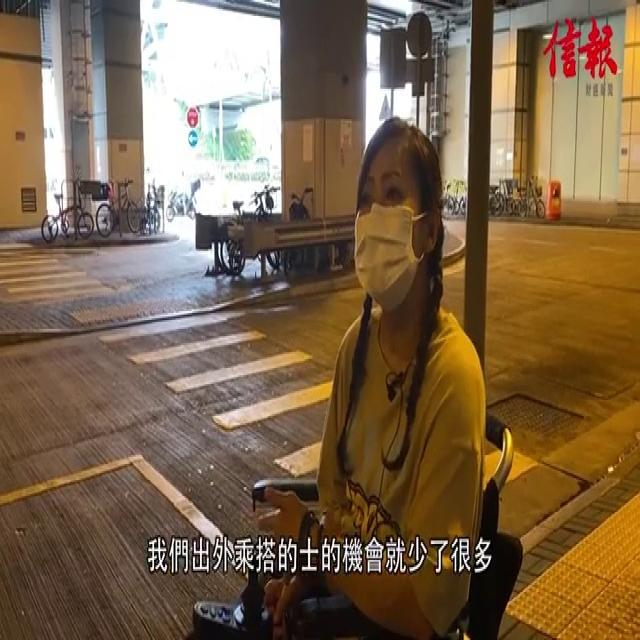wheelchairs: (196, 385, 530, 640)
